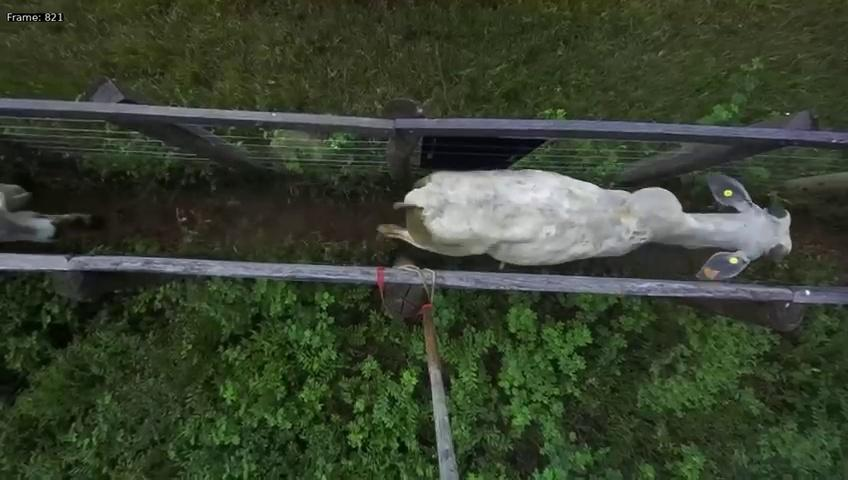cattle: (390, 161, 791, 281)
